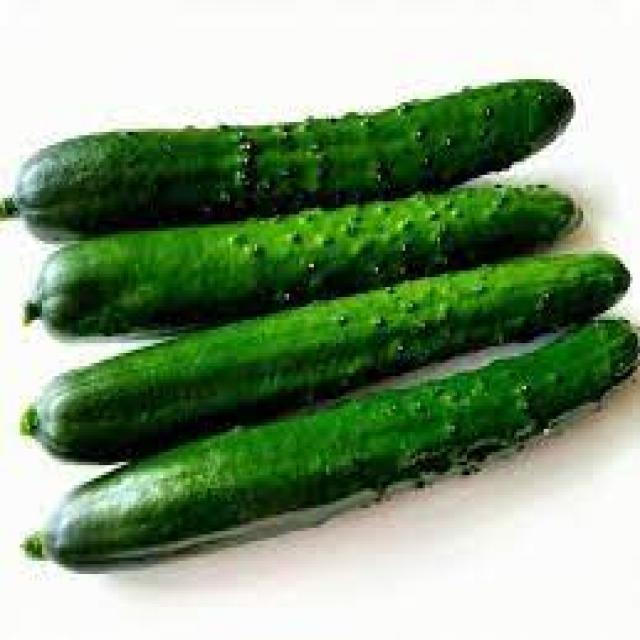cucumber: (49, 320, 640, 568), (38, 255, 634, 461), (17, 79, 576, 233), (40, 188, 578, 336)
